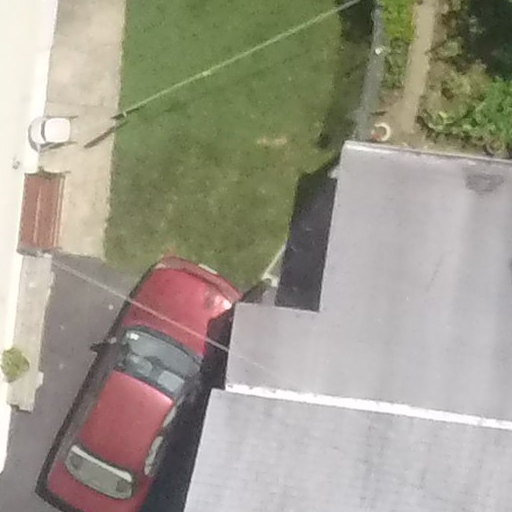bench: (12, 159, 75, 269)
chair: (25, 101, 87, 157)
container: (1, 343, 37, 379), (358, 119, 395, 144), (482, 135, 506, 156)
flower pot: (1, 346, 35, 374)
